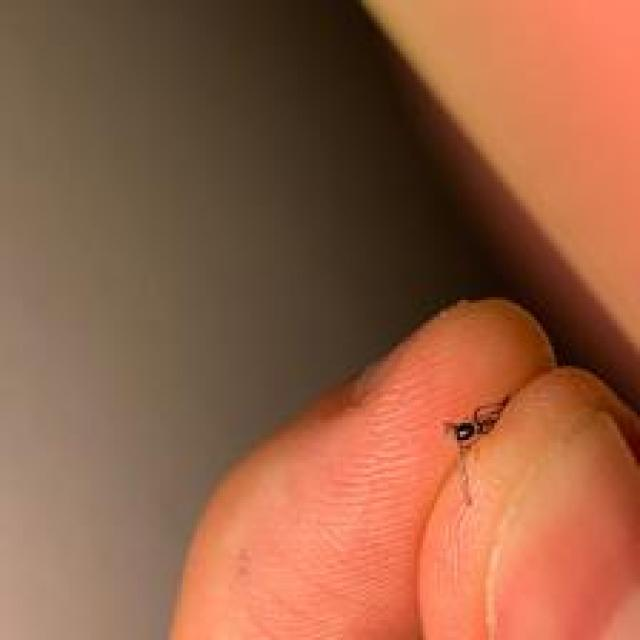Aedes albopictus: (441, 393, 510, 507)
